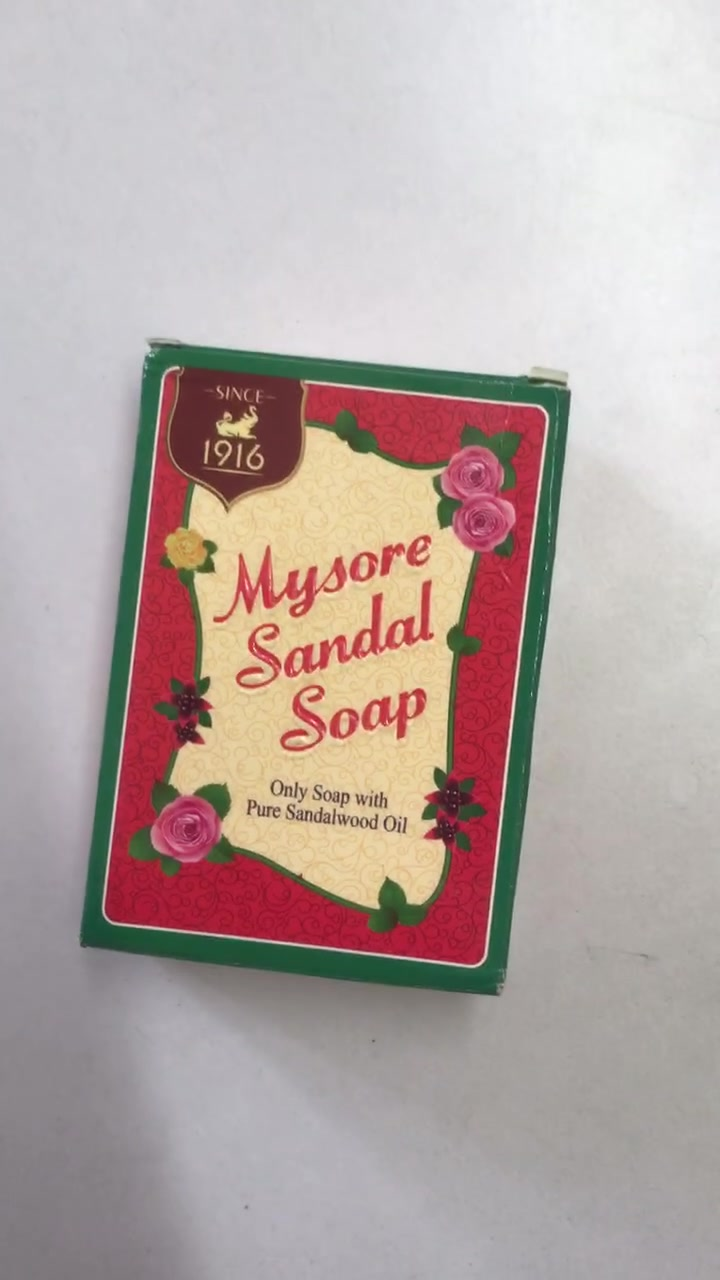mysore sandal soap: (76, 334, 574, 1002)
